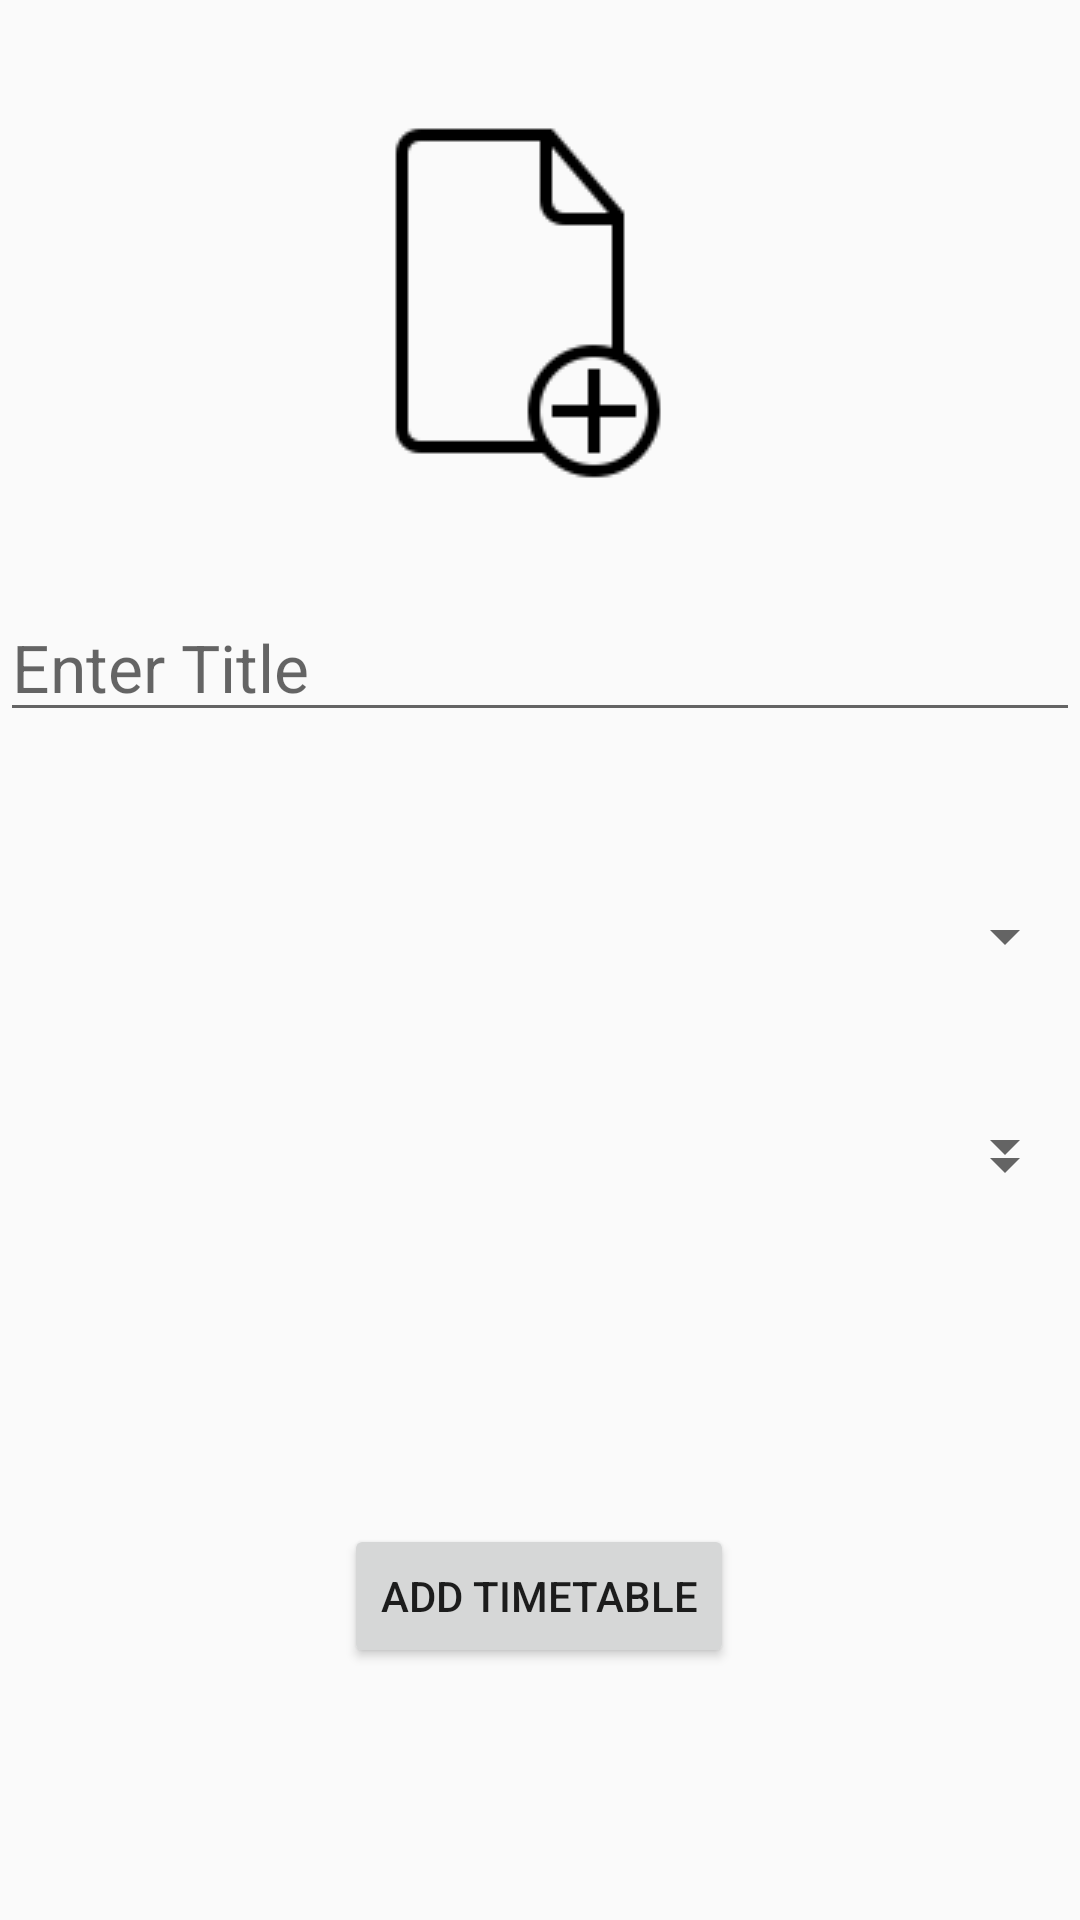

Screen size 1080px×1920px. Icon name, then its center in pixels as [x,y]:
browsepdf: [528,303]
